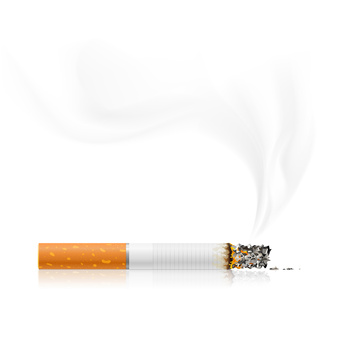cigarette: (27, 191, 307, 292)
